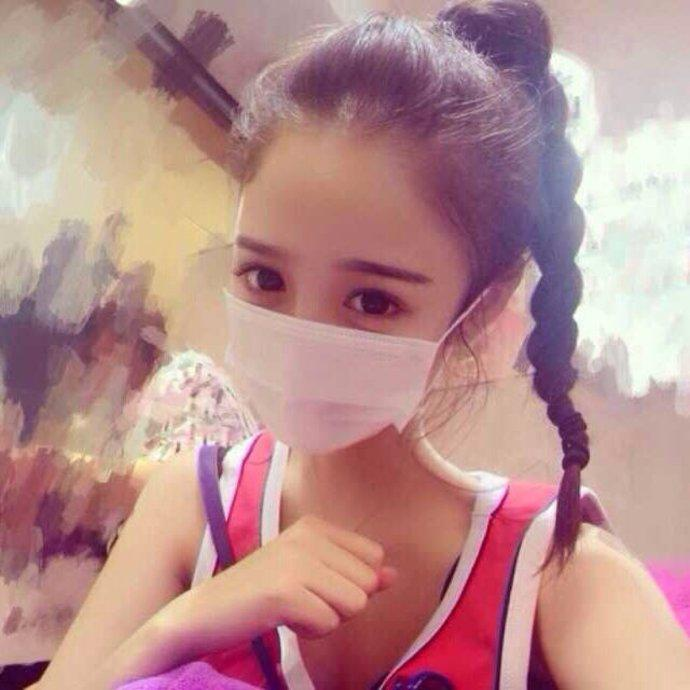OK: (228, 211, 441, 455)
